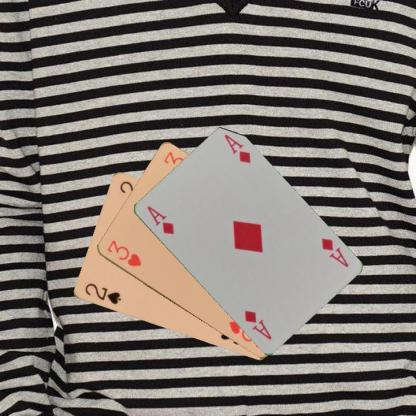2s: (82, 281, 122, 306)
3h: (104, 238, 143, 268)
Ad: (318, 235, 350, 269), (144, 203, 175, 236)
